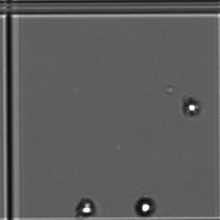Living Cell: (179, 92, 201, 123), (132, 191, 157, 217), (72, 195, 99, 219)
